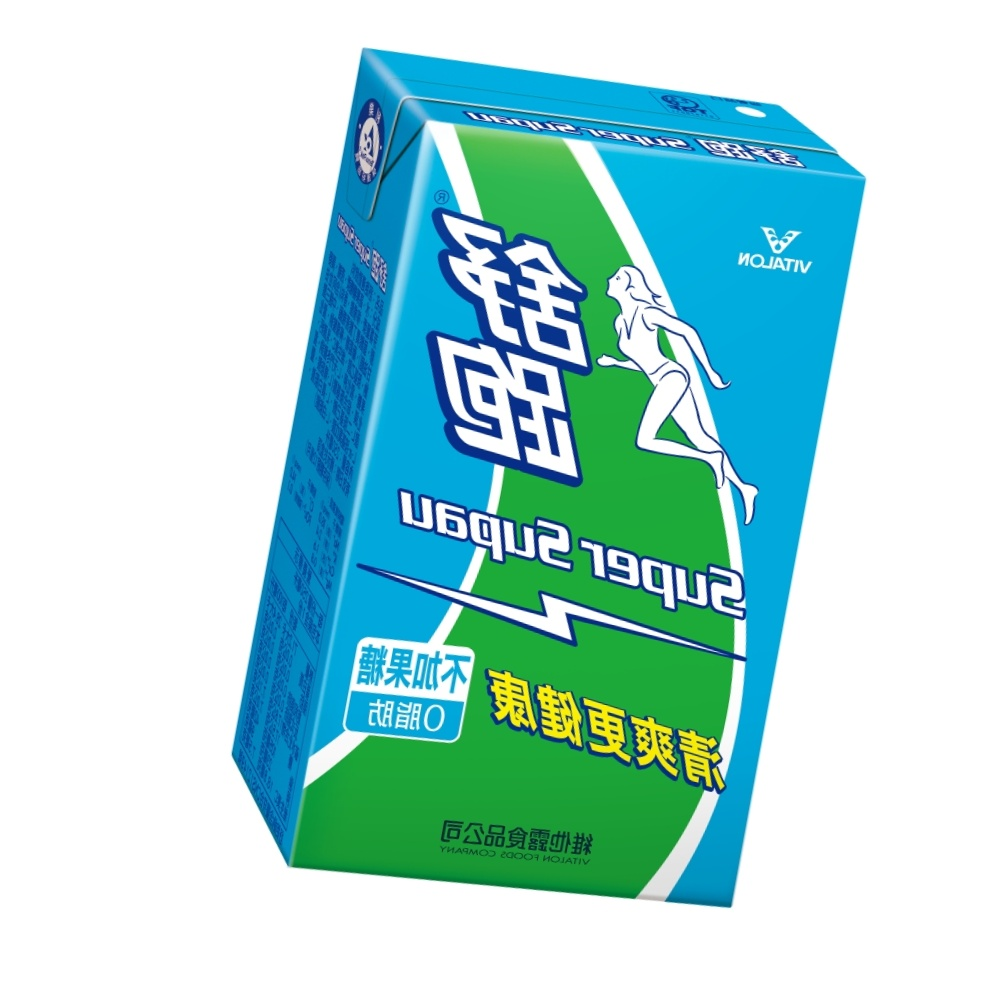鋁箔包: (188, 6, 897, 956), (6, 988, 715, 1000)
